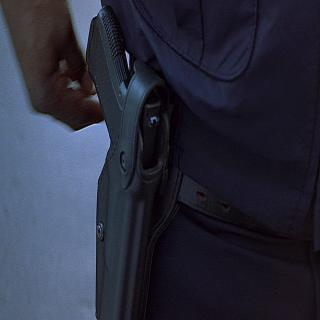gun: (82, 11, 167, 310)
